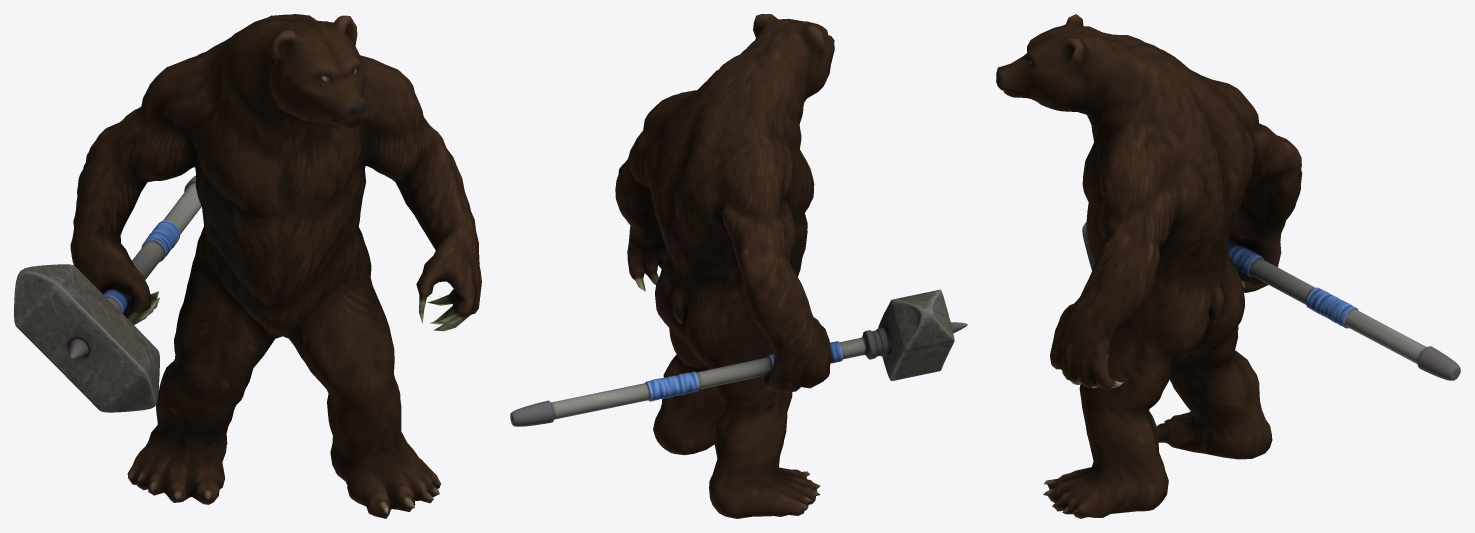
Rendered from MZ4250 - Werebear Maul.glb.
3 renders of one model, left to right at view 1: azimuth 30°, elevation 25°; view 2: azimuth 150°, elevation 25°; view 3: azimuth 270°, elevation 25°, orthographic. The views are drawn at different scales.
Parts seen in each view (by area): view 1: werebear-scaled; view 2: werebear-scaled; view 3: werebear-scaled.
Part boxes in pixels (x1,y1,x2,y2): werebear-scaled: (14, 14, 481, 518); werebear-scaled: (510, 14, 967, 518); werebear-scaled: (996, 14, 1460, 518).
Bounding box in the file's own units: 1.08 × 1.22 × 1.16.
1 material, 1 textured.
